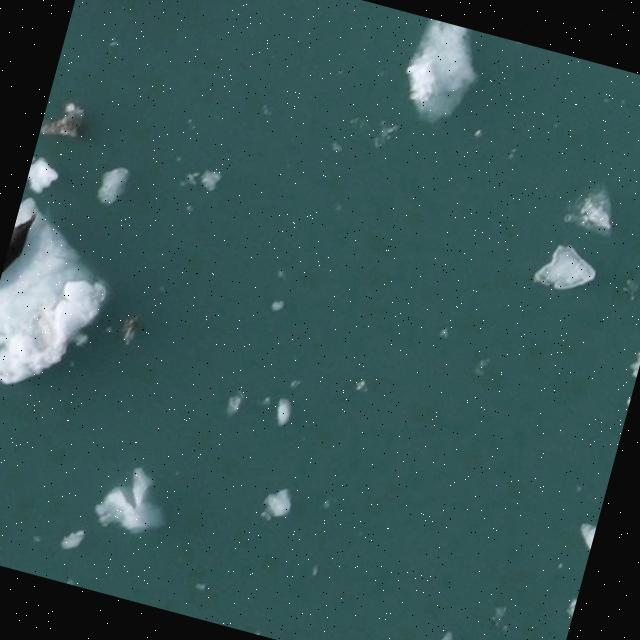seal: (2, 213, 31, 274)
